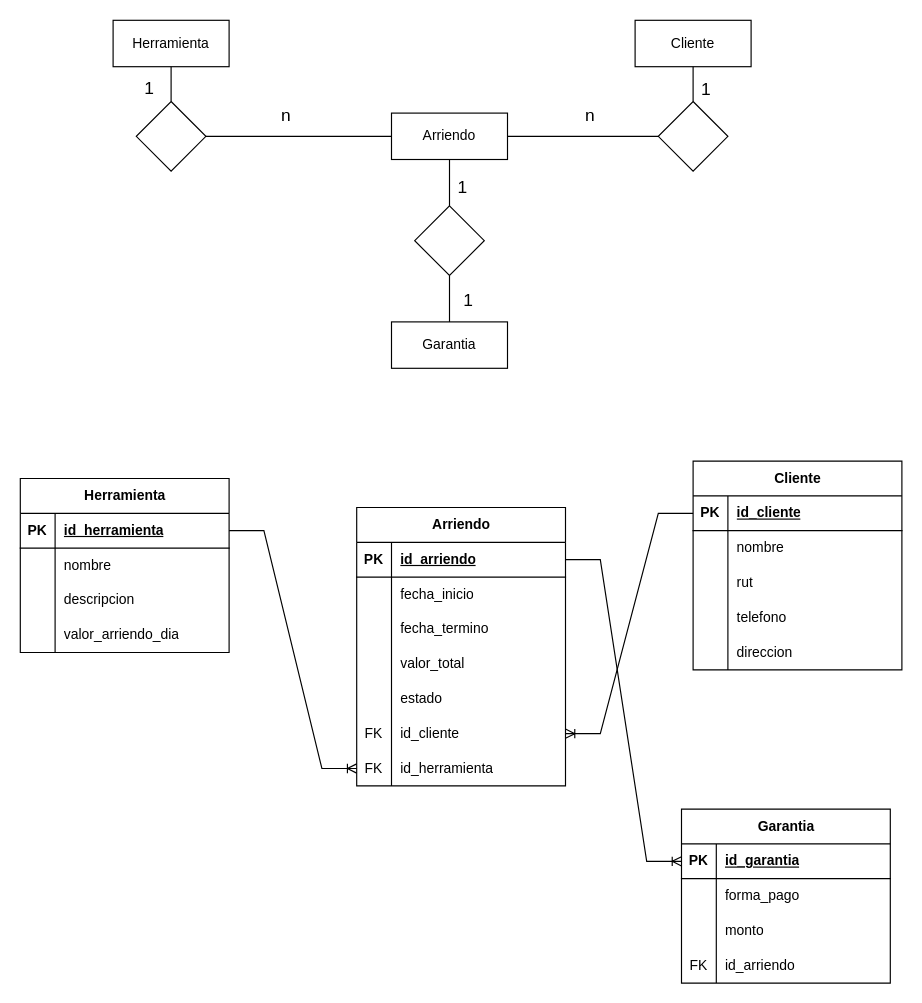
Some shapes in this 922 by 1003 pixel diagram are drawn without their labels. Here are the shapes that lost their labels. From the top down, the centre of each, then its label:
At (x=170, y=135): "Es arrendada".
At (x=692, y=135): "Solicita".
At (x=449, y=240): "Se entrega".
